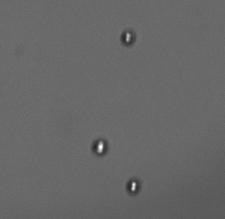Living Cell: (119, 28, 137, 47), (91, 138, 108, 155), (126, 177, 143, 194)
